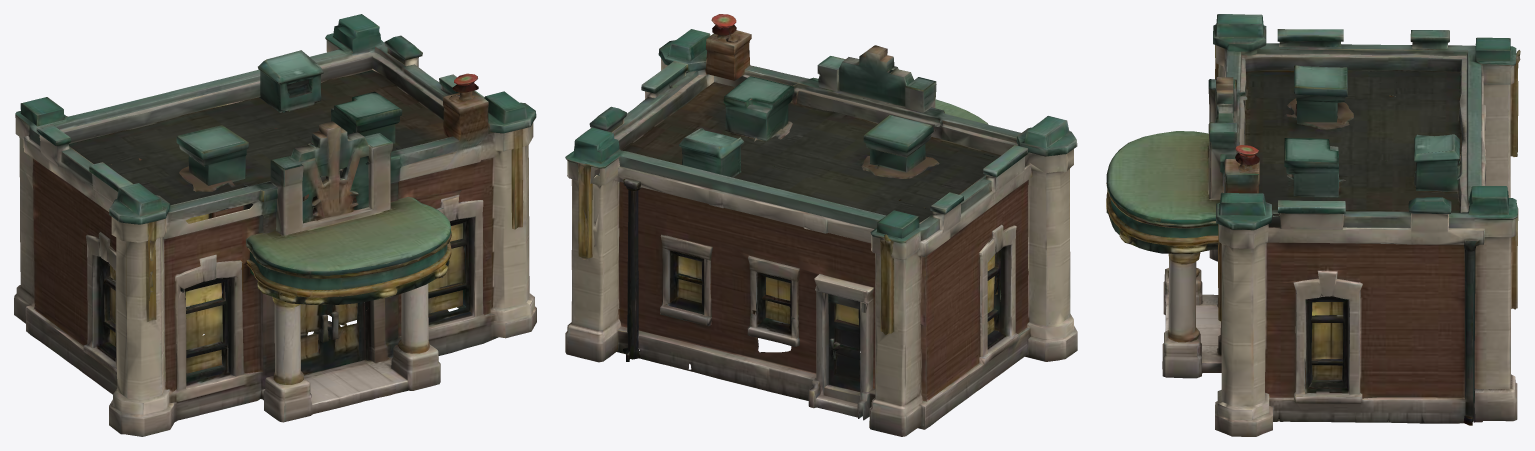
File: candidate.glb
The picture shows the model from 3 angles, left to right: view 1: azimuth 30°, elevation 25°; view 2: azimuth 150°, elevation 25°; view 3: azimuth 270°, elevation 25°; orthographic projection. The views are drawn at different scales.
Visible parts, largest first — view 1: expansion__hotel_1__native_mobile; view 2: expansion__hotel_1__native_mobile; view 3: expansion__hotel_1__native_mobile.
Boxes of the visible parts, box(x1,y1,x2,y2) form: expansion__hotel_1__native_mobile: box(14, 14, 536, 436); expansion__hotel_1__native_mobile: box(565, 14, 1077, 436); expansion__hotel_1__native_mobile: box(1106, 14, 1520, 436).
Bounding box in the file's own units: 1 × 0.6011 × 0.8476.
Materials: 1 (1 with a texture image).
